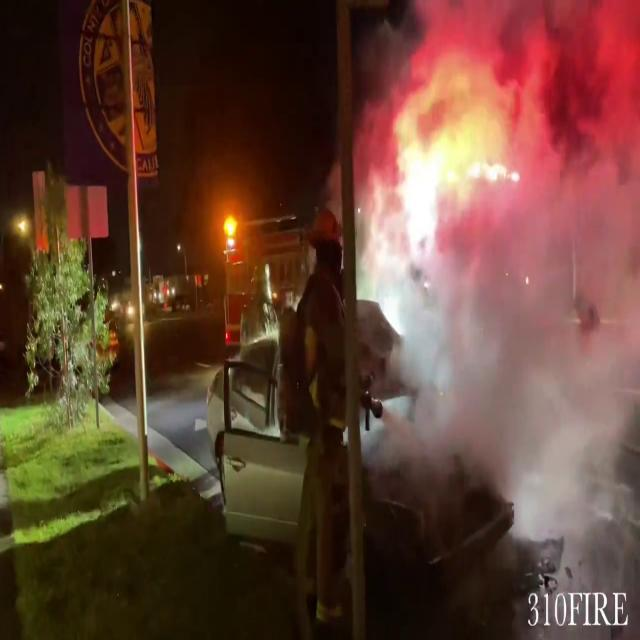Smoke: (380, 1, 640, 520)
